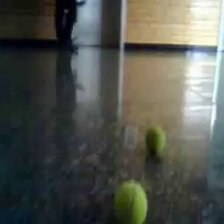tennis: (113, 181, 147, 224), (146, 126, 166, 159)
